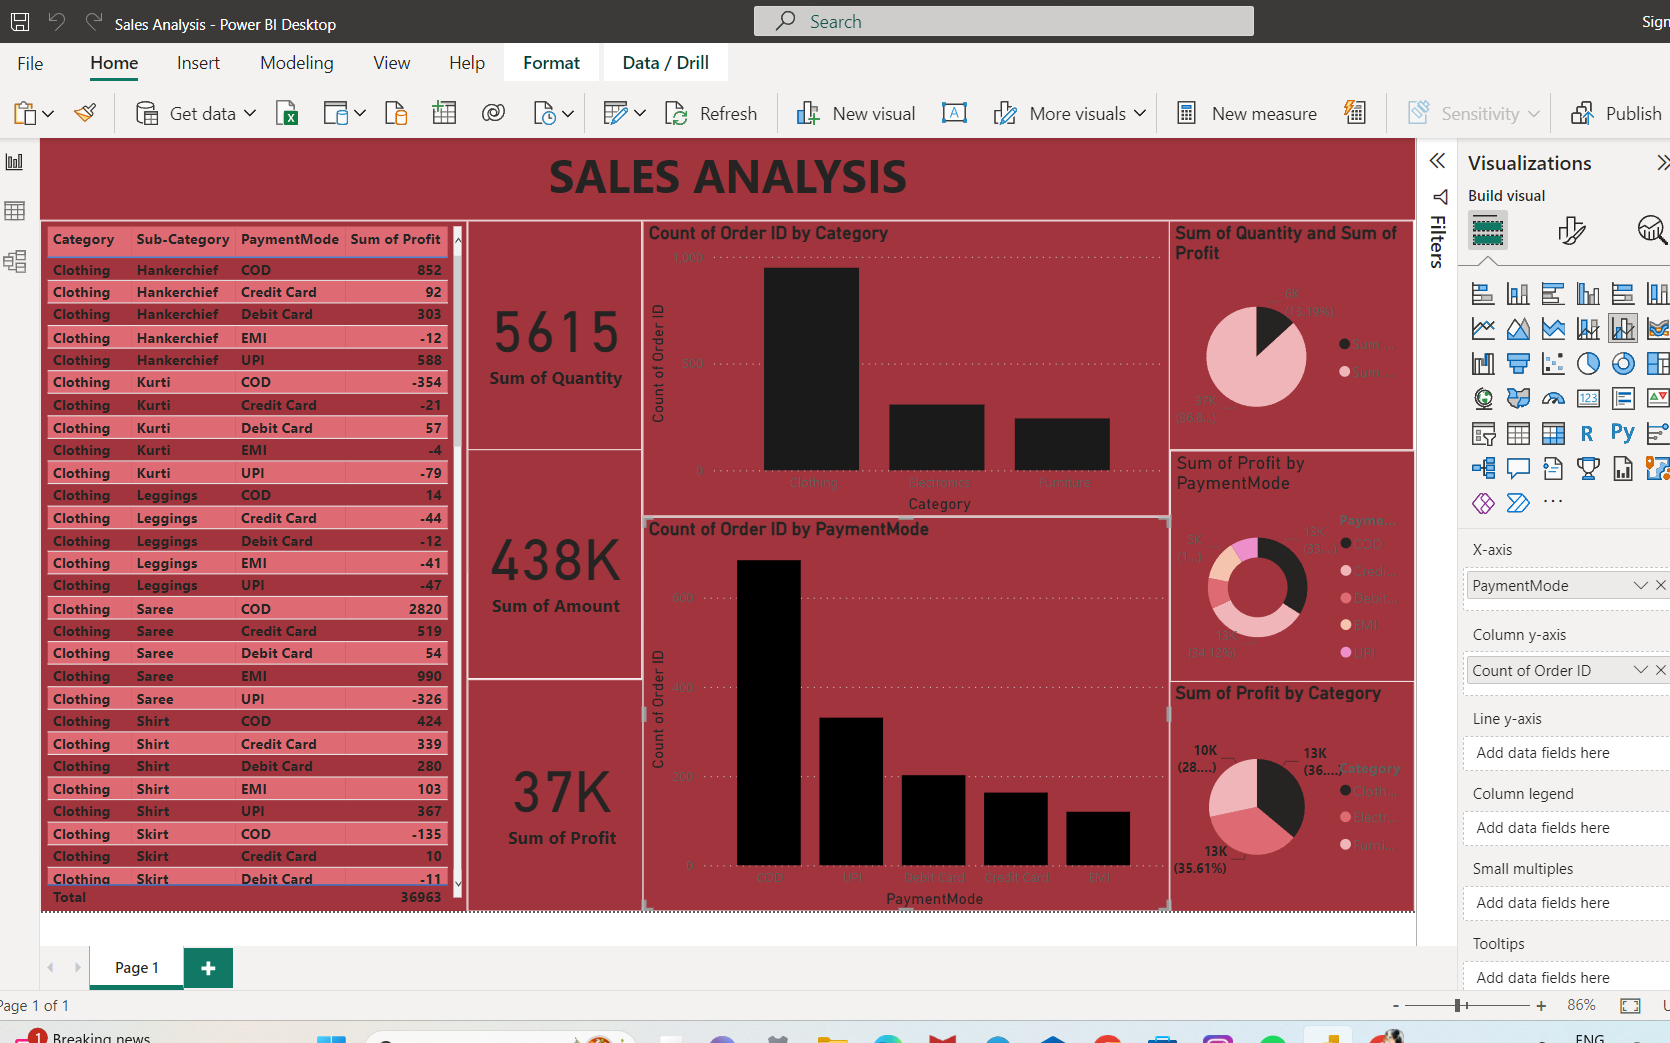

This screenshot's page, from the dashboard's own definition file:
{"tool":"powerbi","page":{"name":"Page 1","canvas":[1280,720],"ordinal":0},"visuals":[{"type":"pieChart","fields":{"Category":["Details.Category"],"Y":["Sum(Details.Profit)"]},"box":[1049.5,504.8,228.9,214.8],"z":0},{"type":"donutChart","fields":{"Y":["Sum(Details.Profit)"],"Series":["Details.PaymentMode"]},"box":[1051.2,290.7,227.9,215.1],"z":1000},{"type":"pieChart","fields":{"Y":["Sum(Details.Quantity)","Sum(Details.Profit)"]},"box":[1050,76.7,227.9,214],"z":2000},{"type":"textbox","box":[0,0,1279.5,76.3],"z":3000},{"type":"card","fields":{"Values":["Sum(Details.Profit)"]},"box":[397.7,503.5,174.4,216.3],"z":4000},{"type":"lineClusteredColumnComboChart","fields":{"Y":["CountNonNull(Details.Order ID)"],"Category":["Details.PaymentMode"]},"box":[560.5,352.3,490.7,367.4],"z":5000},{"type":"card","fields":{"Values":["Sum(Details.Amount)"]},"box":[397.7,287.2,162.8,216.3],"z":6000},{"type":"card","fields":{"Values":["Sum(Details.Quantity)"]},"box":[397.7,76.7,162.8,214],"z":7000},{"type":"tableEx","fields":{"Values":["Details.Category","Details.Sub-Category","Details.PaymentMode","Sum(Details.Profit)"]},"box":[0,76.7,397.7,643],"z":8000},{"type":"lineStackedColumnComboChart","fields":{"Category":["Details.Category"],"Y":["CountNonNull(Details.Order ID)"]},"box":[560.5,76.7,490.7,275.6],"z":9000}]}

Visuals, with their boxes on the page's 1280x720 design canvas (x1, y1, x2, y2). These are canvas units, not pixel positions in the 1670x1043 screenshot, which may show the page scaled, cropped or inside an application window:
pieChart - Details.Category x Sum(Details.Profit): (1050, 505, 1278, 720)
donutChart - Sum(Details.Profit) x Details.PaymentMode: (1051, 291, 1279, 506)
pieChart - Sum(Details.Quantity) x Sum(Details.Profit): (1050, 77, 1278, 291)
textbox: (0, 0, 1280, 76)
card - Sum(Details.Profit): (398, 504, 572, 720)
lineClusteredColumnComboChart - CountNonNull(Details.Order ID) x Details.PaymentMode: (560, 352, 1051, 720)
card - Sum(Details.Amount): (398, 287, 560, 504)
card - Sum(Details.Quantity): (398, 77, 560, 291)
tableEx - Details.Category x Details.Sub-Category: (0, 77, 398, 720)
lineStackedColumnComboChart - Details.Category x CountNonNull(Details.Order ID): (560, 77, 1051, 352)
